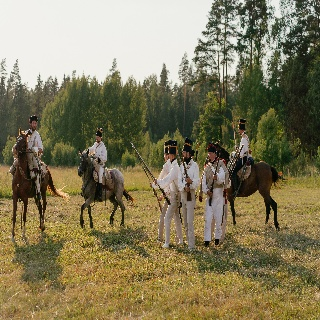rifle: (130, 142, 172, 212), (140, 162, 164, 212), (208, 145, 221, 208)
